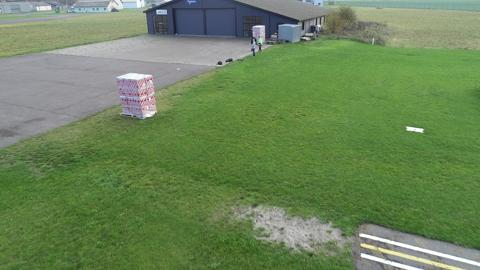RockwoolPallet: (116, 73, 158, 121)
